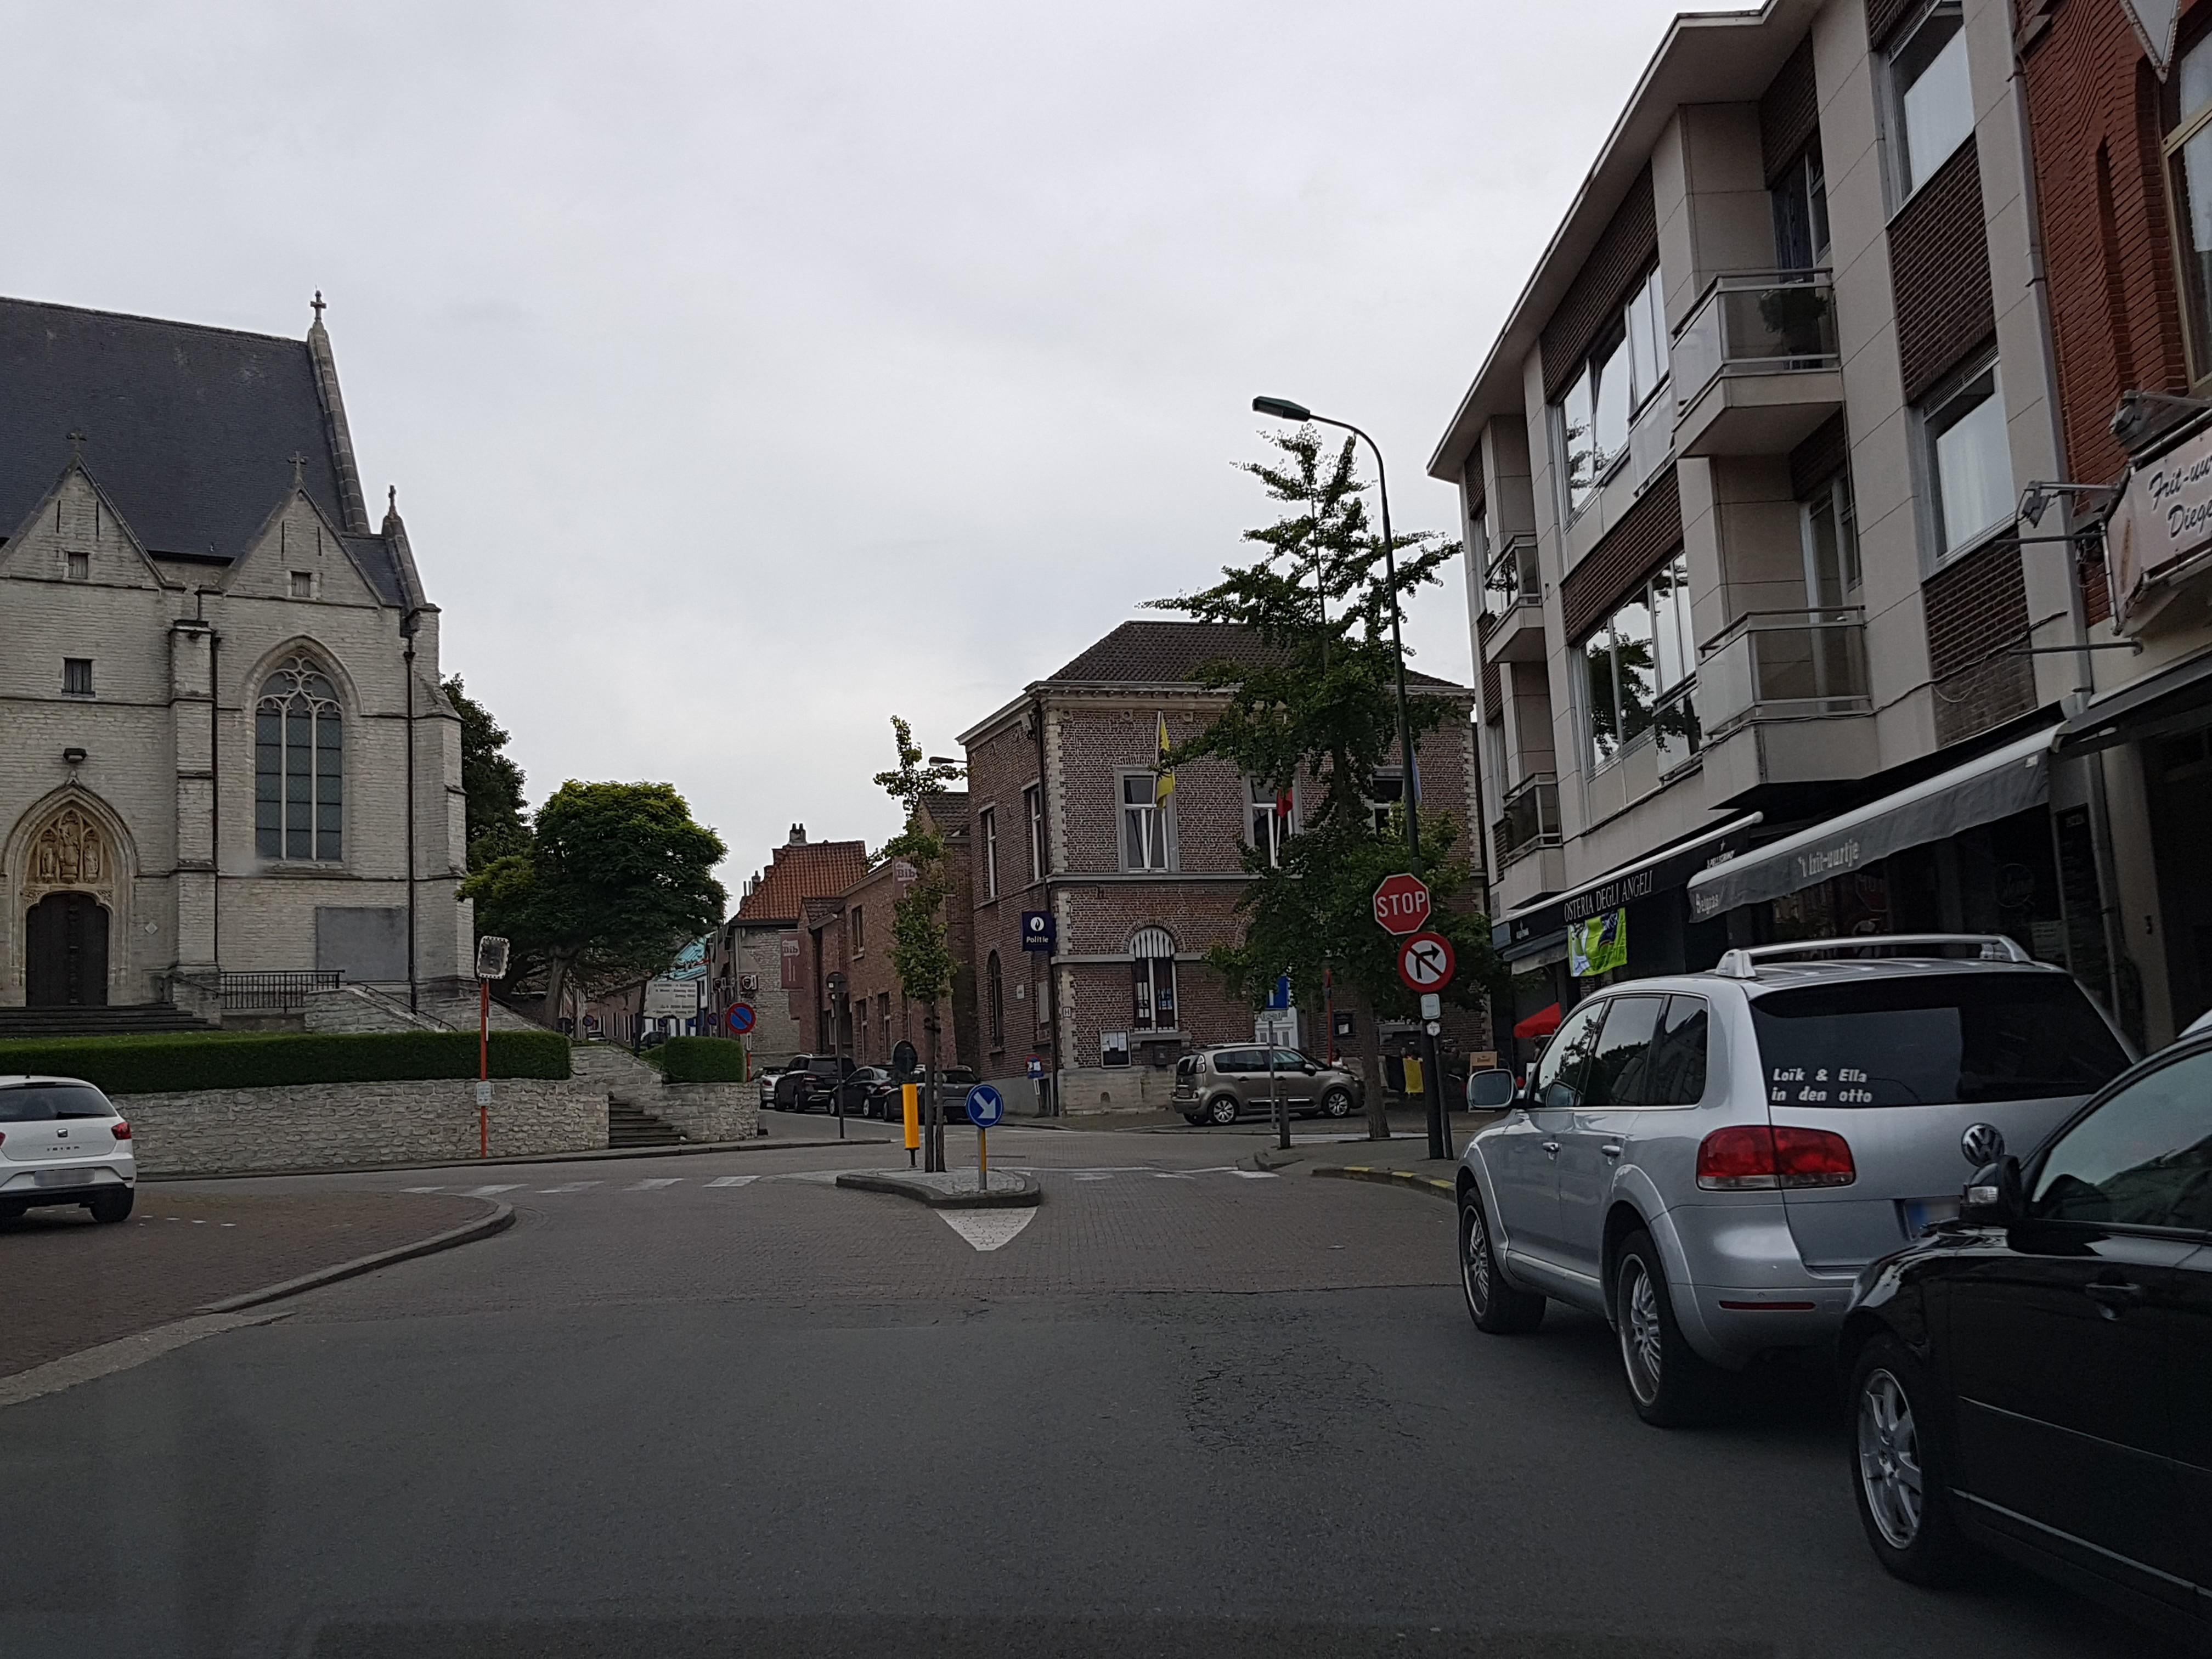vinyl banner: (1548, 904, 1656, 988)
